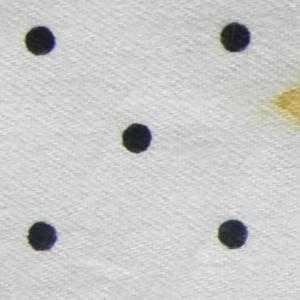Oil Stain: (266, 83, 300, 125)
